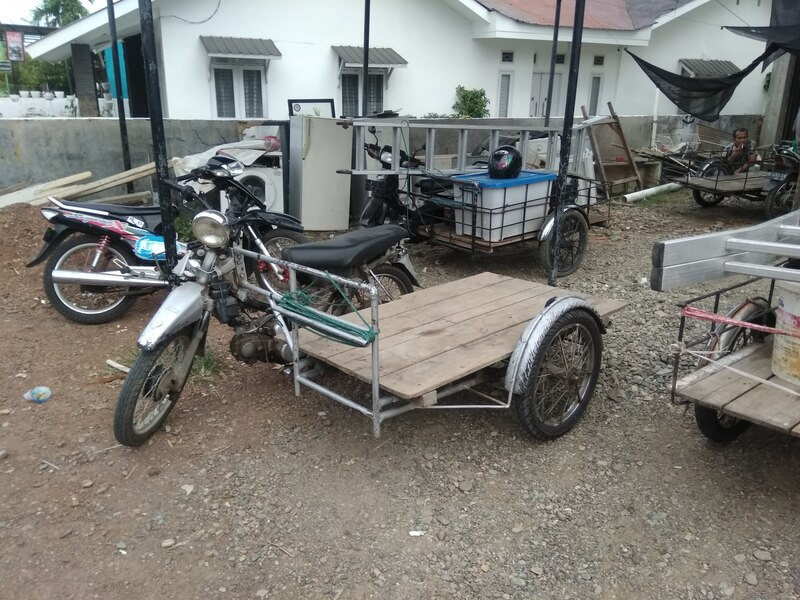becak barang: (108, 163, 632, 459), (361, 130, 609, 290), (669, 261, 800, 471), (670, 131, 800, 218)
